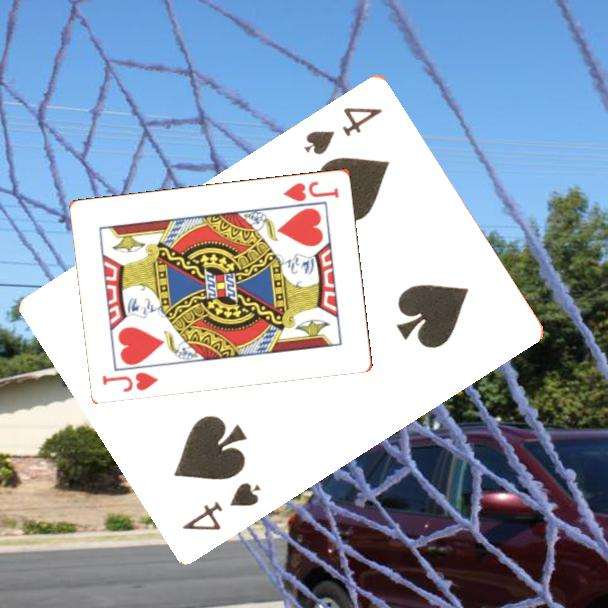h11: (280, 177, 342, 204), (99, 368, 161, 395)
s04: (300, 102, 386, 158), (179, 477, 264, 533)
